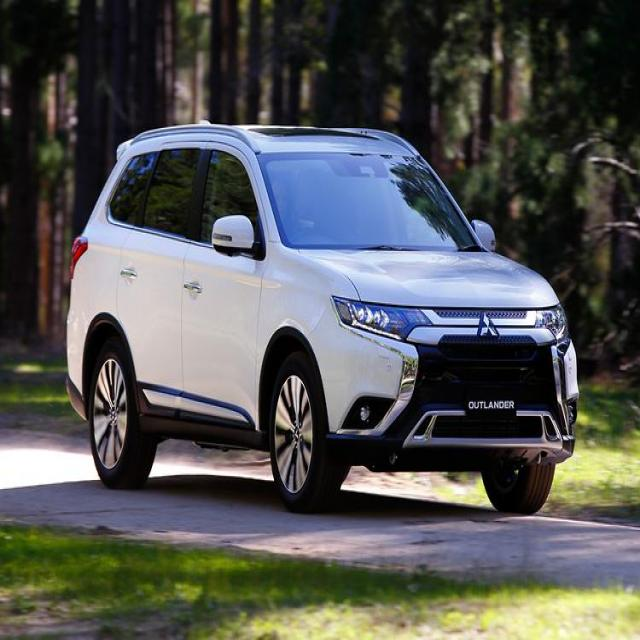light_vehicle: (65, 123, 579, 516)
